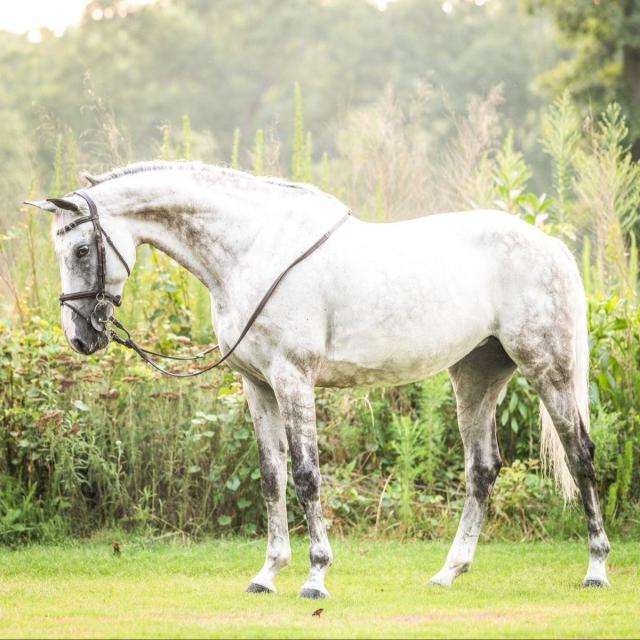horse: (24, 157, 612, 600)
